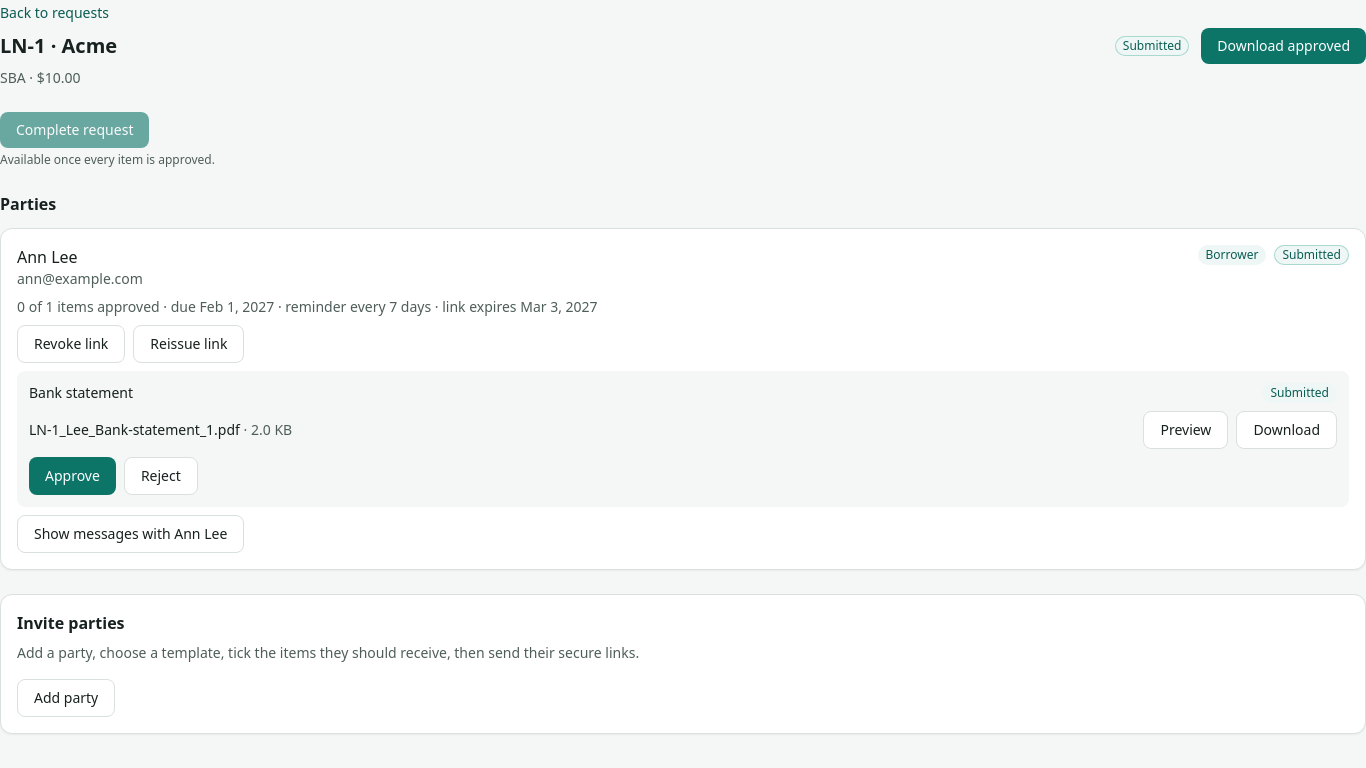
Test: item review › shows the API error when a rejection fails
The image size is (1366, 768).
Click the button with aria-label "Reject Bank statement" at (161, 476), box [124,457,198,495]
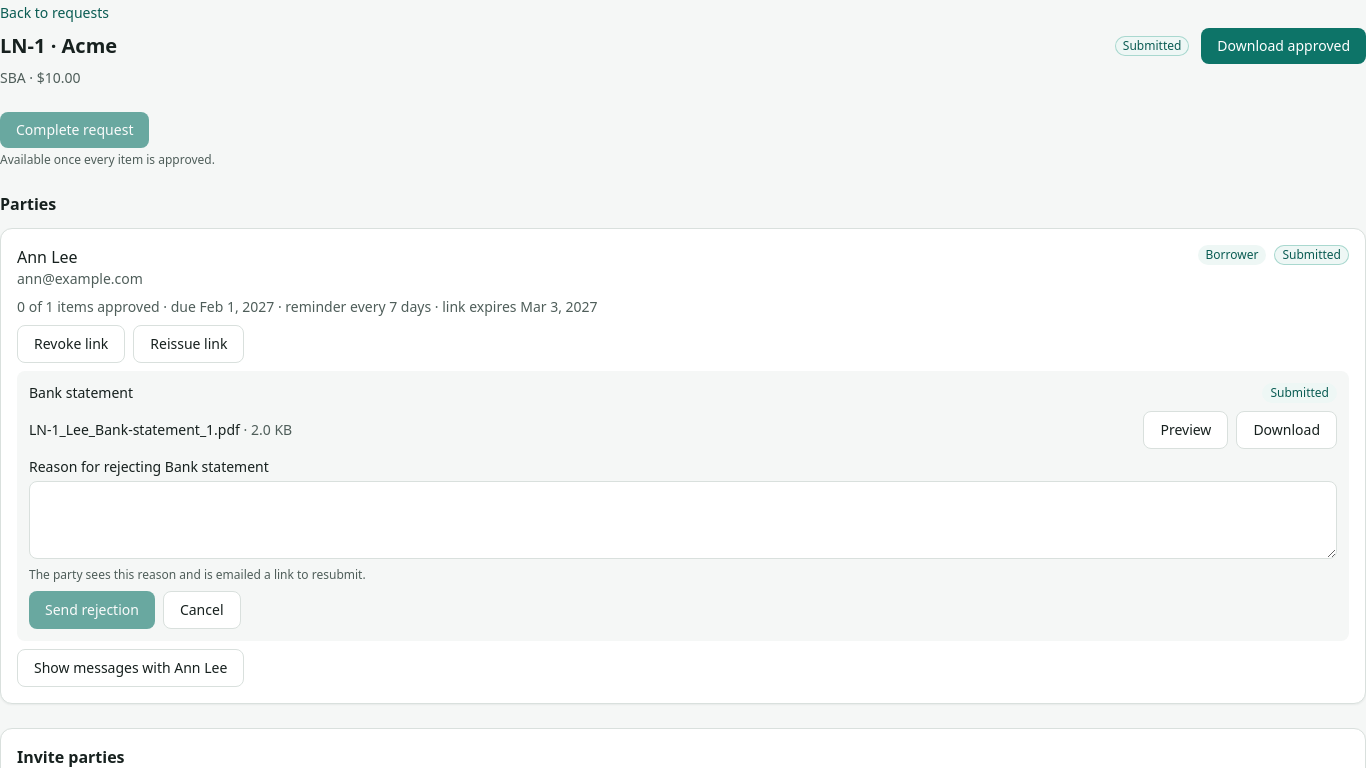
Type "Blurry" into the text box labelled "Reason for rejecting Bank statement" at (683, 520), box [29,481,1337,559]
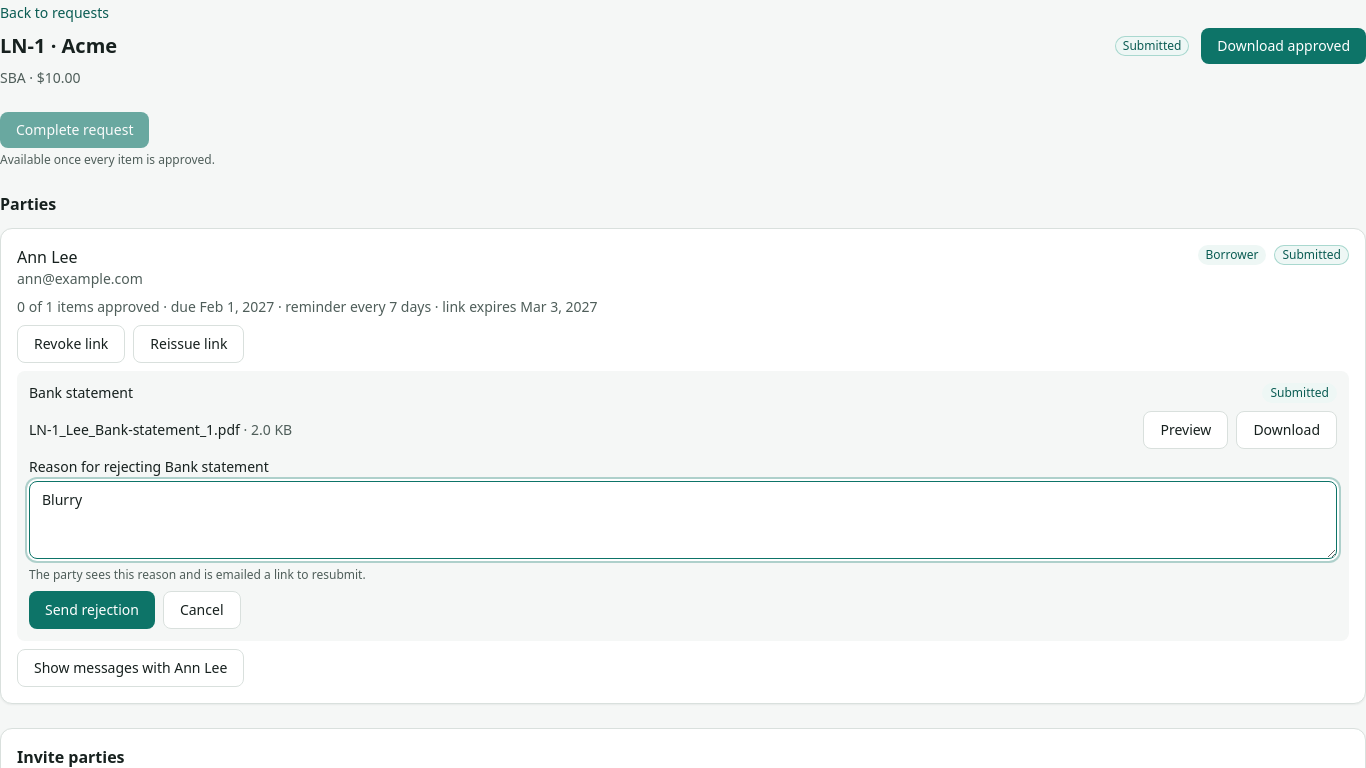
Click the button "Send rejection" at (92, 610), box [29,591,155,629]
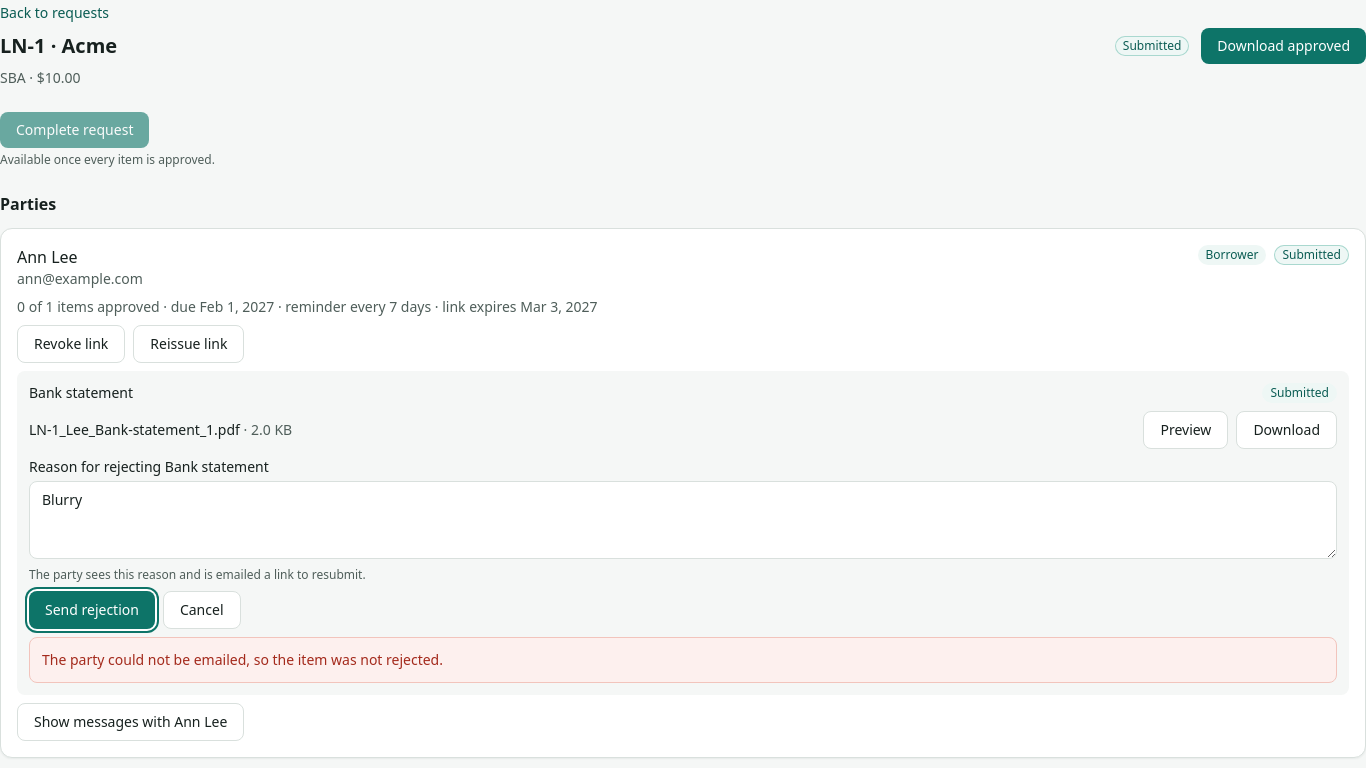
Result: the message shows "could not be emailed" at [42,650,443,669]
